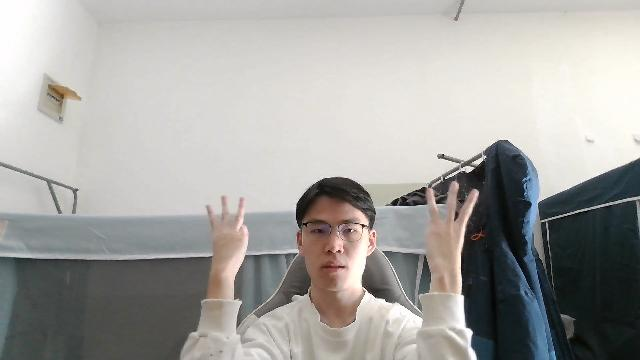three: (422, 179, 477, 284), (203, 193, 252, 280)
